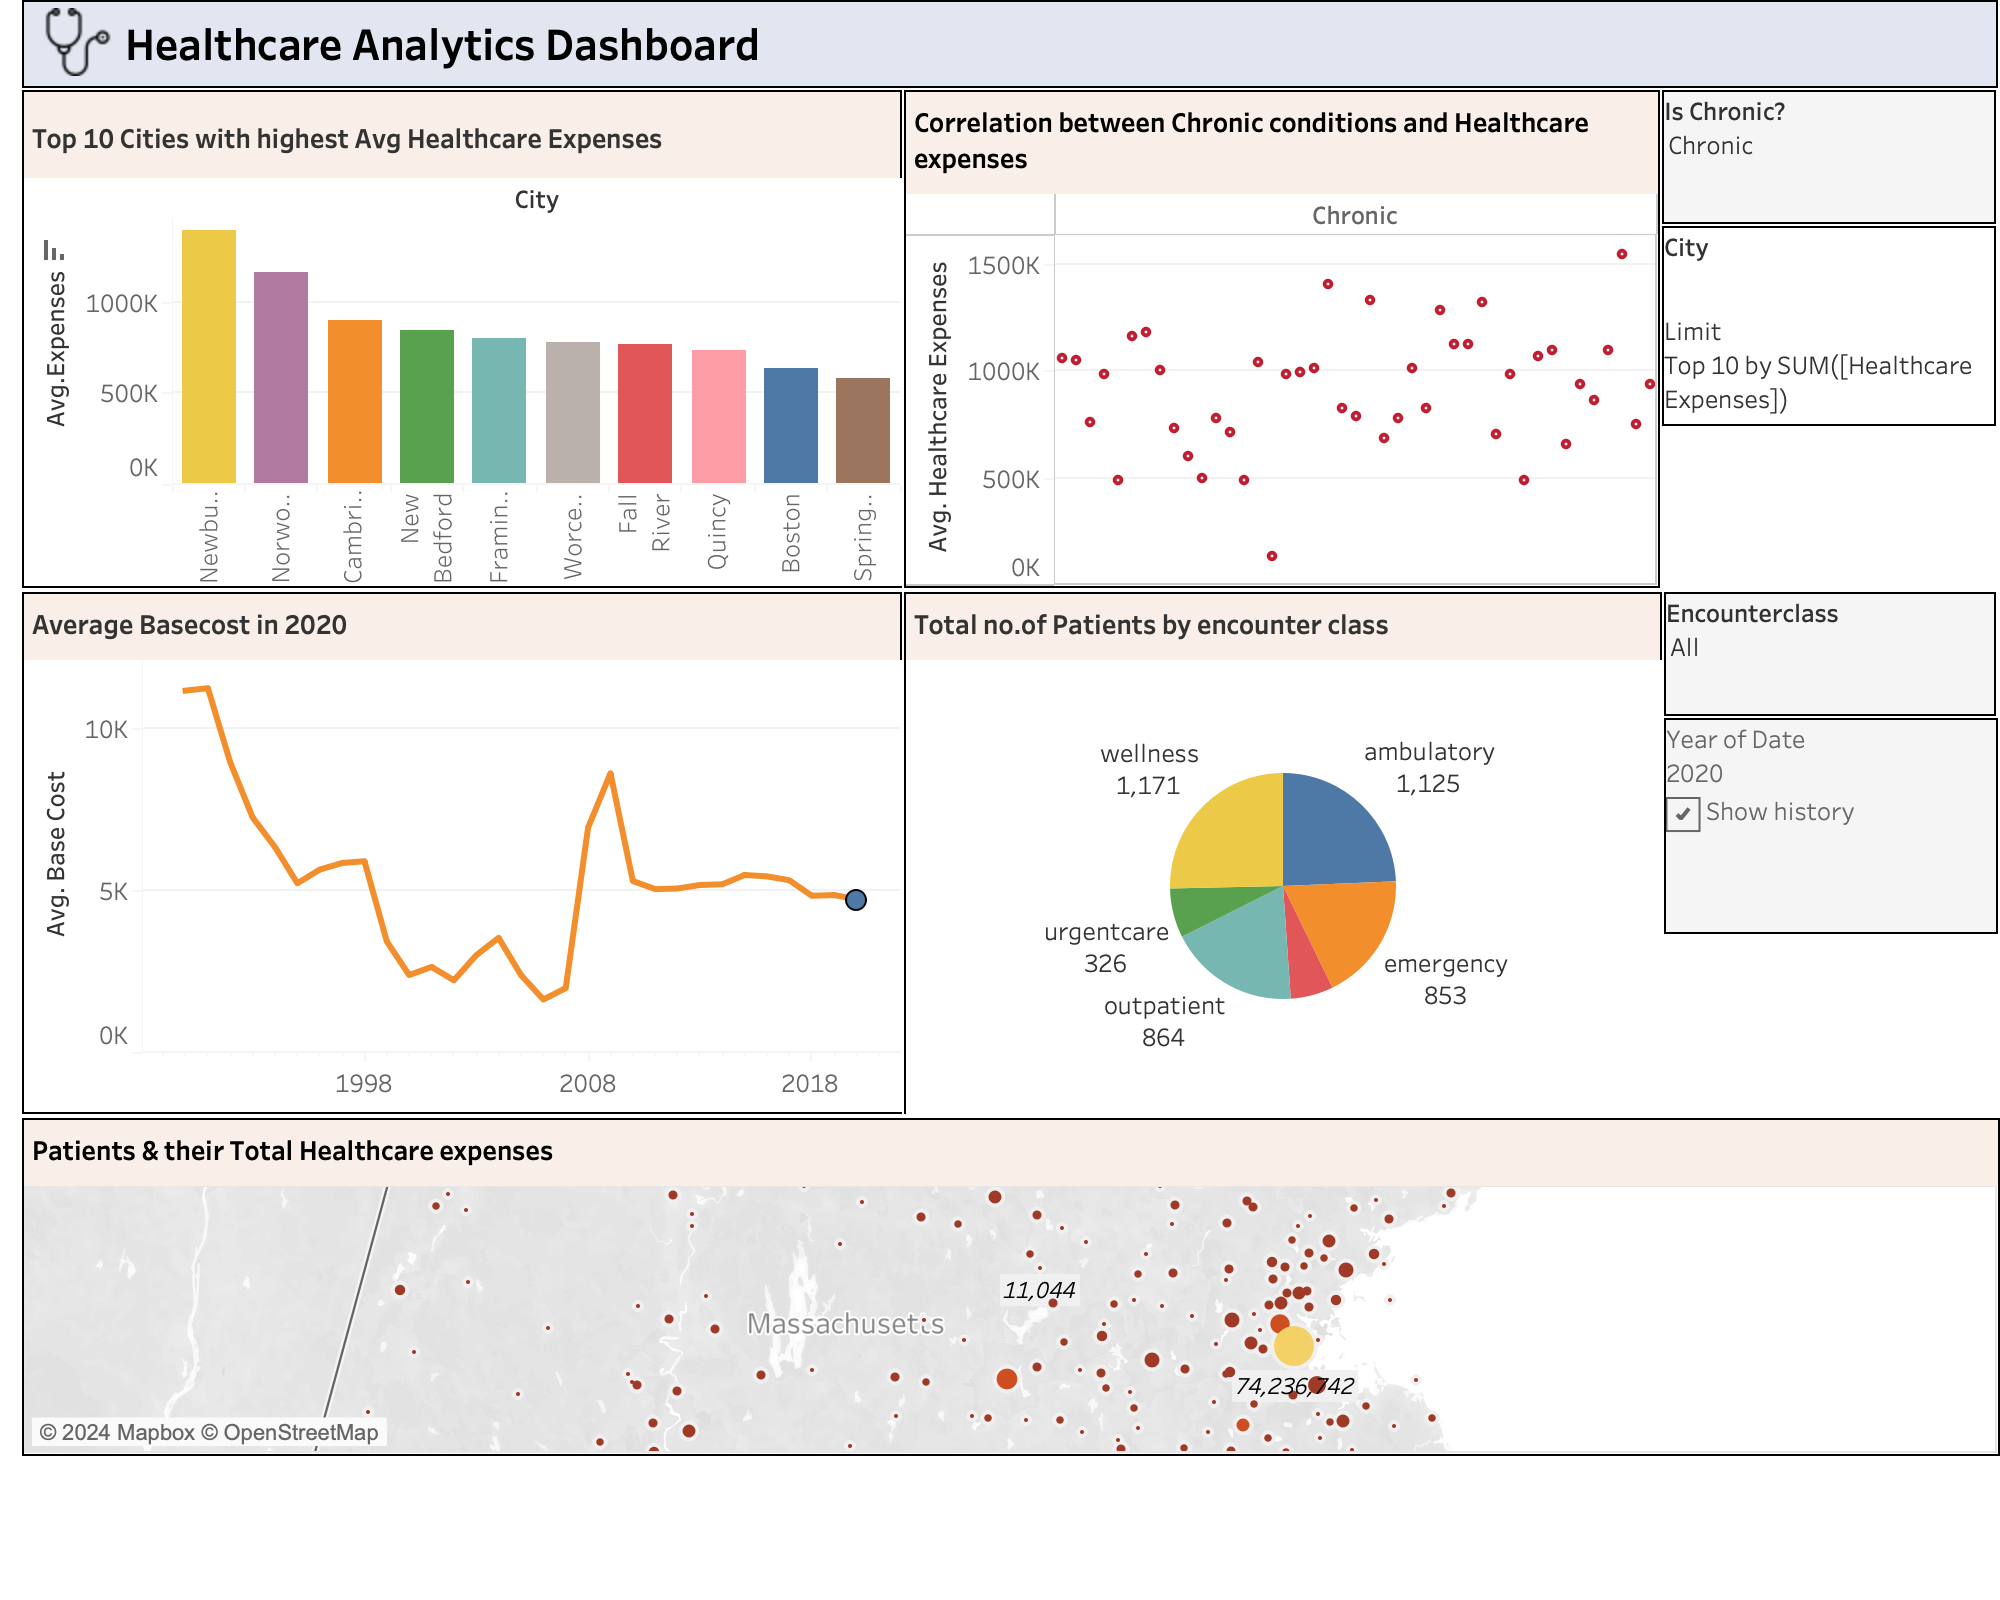

What the dashboard file says about the page in this screenshot:
{"tool":"tableau","page":{"name":"Dashboard 1","canvas":[1000,800],"ordinal":0},"visuals":[{"type":"text","box":[60,1,365,41]},{"type":"image","param":"Image/stethoscope.png","box":[22,4,45,34]},{"type":"worksheet","title":"Top 10 cities","mark":"Automatic","rows":["HEALTHCARE_EXPENSES"],"cols":["CITY"],"box":[11,45,440,249]},{"type":"worksheet","title":"Chronic conditions","mark":"Shape","rows":["HEALTHCARE_EXPENSES"],"cols":["Calculation_4109956929666932739","CODE (ENCOUNTERS)"],"box":[452,45,378,249]},{"type":"filter","title":"Chronic conditions","param":"[federated.0kf4cne1tpnreu13mptq818z5uv9].[none:Calculation_4109956929666932739:n","box":[831,45,167,67]},{"type":"filter","title":"Top 10 cities","param":"[federated.0kf4cne1tpnreu13mptq818z5uv9].[none:CITY:nk]","box":[831,113,167,100]},{"type":"worksheet","title":"Animation showing Basecost ","mark":"Circle","rows":["BASE_COST (PROCEDURES)"],"cols":["DATE (PROCEDURES)"],"box":[11,296,440,261]},{"type":"worksheet","title":"Encounter class","mark":"Pie","box":[452,296,379,261]},{"type":"filter","title":"Encounter class","param":"[federated.0kf4cne1tpnreu13mptq818z5uv9].[none:ENCOUNTERCLASS:nk]","box":[832,296,166,62]},{"type":"currpage","title":"Animation showing Basecost ","box":[832,359,167,108]},{"type":"worksheet","title":"Geospatial Analysis","mark":"Automatic","rows":["LAT"],"cols":["LON"],"box":[11,559,989,169]}]}

Visuals, with their boxes in screenshot pixels (x1, y1, x2, y2), scaled from the page's 1000x800 canvas onto the 2000x1600 screenshot:
text: region(120, 2, 850, 84)
image: region(44, 8, 134, 76)
"Top 10 cities" worksheet: region(22, 90, 902, 588)
"Chronic conditions" worksheet (Shape marks): region(904, 90, 1660, 588)
"Chronic conditions" filter: region(1662, 90, 1996, 224)
"Top 10 cities" filter: region(1662, 226, 1996, 426)
"Animation showing Basecost " worksheet (Circle marks): region(22, 592, 902, 1114)
"Encounter class" worksheet (Pie marks): region(904, 592, 1662, 1114)
"Encounter class" filter: region(1664, 592, 1996, 716)
"Animation showing Basecost " currpage: region(1664, 718, 1998, 934)
"Geospatial Analysis" worksheet: region(22, 1118, 1999, 1456)
